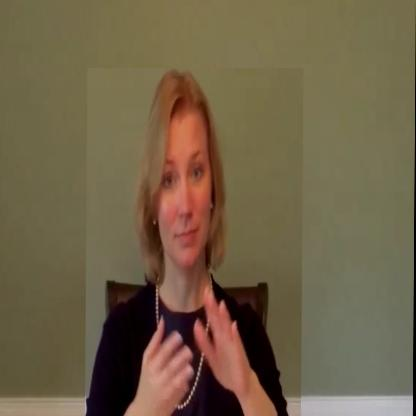NiceToMeetYou: (86, 68, 304, 416)
